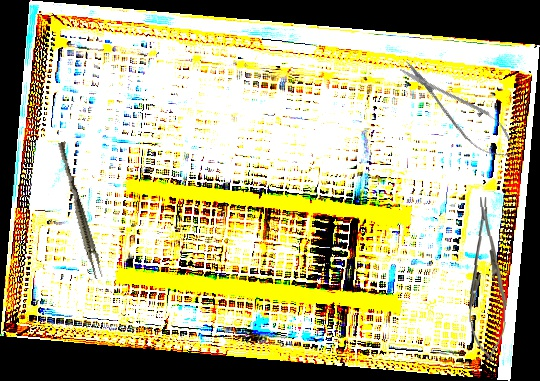Micro Scissor: (391, 51, 526, 170)
Needle Holder: (465, 196, 509, 362)
Tissue Forceps: (52, 141, 107, 280)
